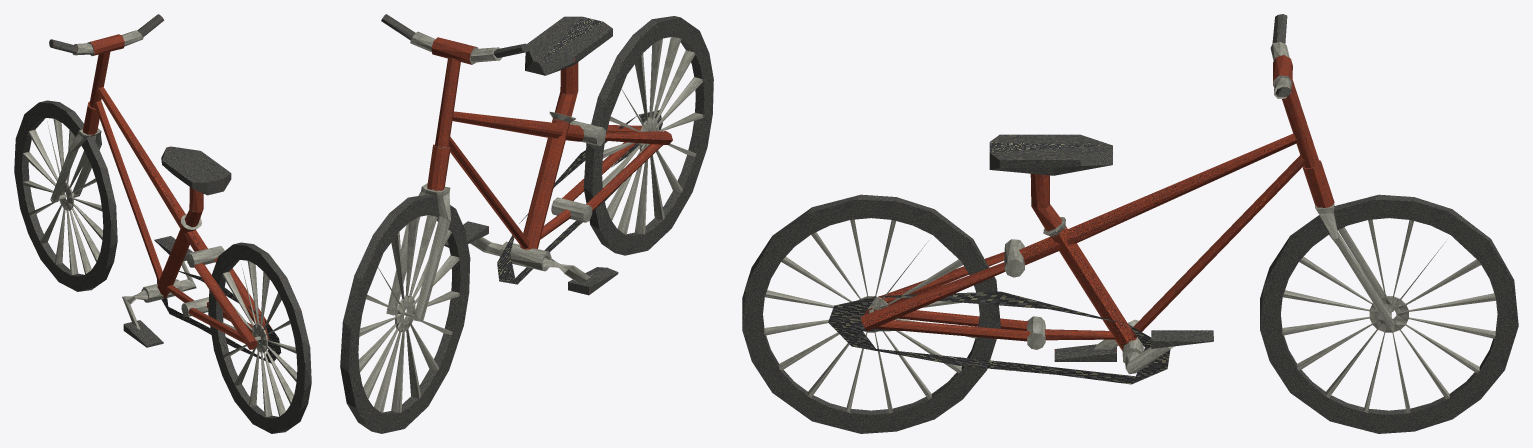
File: Bicycle.glb
3 views of the same model, side by side, from view 1: azimuth 30°, elevation 25°; view 2: azimuth 150°, elevation 25°; view 3: azimuth 270°, elevation 25° (orthographic). The views are drawn at different scales.
Parts seen in each view (by area): view 1: TopBar, FrontWheel.001, BackWheel, FrontWheel, Pedals, Chain; view 2: FrontWheel.001, BackWheel, TopBar, FrontWheel, Pedals, Chain; view 3: TopBar, FrontWheel.001, BackWheel, Chain, FrontWheel, Pedals.
Boxes of the visible parts, bbox=[...] form: TopBar: bbox=[94, 87, 272, 349]; FrontWheel.001: bbox=[14, 100, 117, 291]; BackWheel: bbox=[208, 242, 311, 433]; FrontWheel: bbox=[49, 14, 164, 202]; Pedals: bbox=[122, 236, 196, 347]; Chain: bbox=[156, 271, 281, 363]; FrontWheel.001: bbox=[340, 194, 470, 433]; BackWheel: bbox=[583, 16, 713, 255]; TopBar: bbox=[449, 16, 672, 249]; FrontWheel: bbox=[381, 14, 529, 321]; Pedals: bbox=[444, 221, 618, 295]; Chain: bbox=[497, 110, 662, 284]; TopBar: bbox=[860, 134, 1304, 350]; FrontWheel.001: bbox=[1260, 194, 1518, 433]; BackWheel: bbox=[742, 194, 1000, 433]; Chain: bbox=[828, 291, 1170, 384]; FrontWheel: bbox=[1270, 14, 1393, 326]; Pedals: bbox=[1054, 319, 1213, 373].
Bounding box in the file's own units: 1.36 × 3.26 × 6.
Materials: 1 (1 with a texture image).
